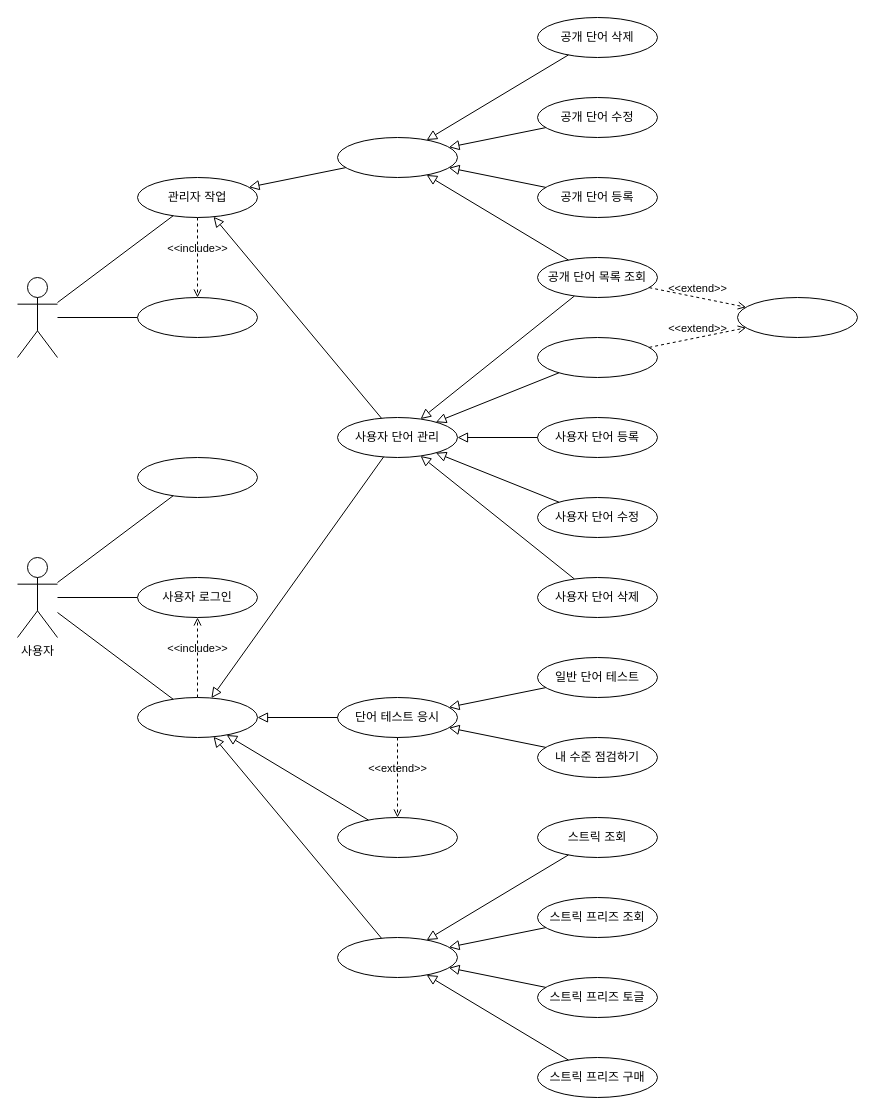
This 875x1115 diagram has some shape labels left out. Here are the shapes that lost their labels. From the top down, the centre of each, then its label:
At point (397, 157): "관리자 단어 관리".
At point (37, 317): "관리자".
At point (197, 317): "관리자 로그인".
At point (797, 317): "조회한 단어를 정렬할 수 있다".
At point (597, 357): "사용자 단어 목록 조회".
At point (197, 477): "사용자 회원가입".
At point (197, 717): "사용자 작업".
At point (397, 837): "단어 테스트 결과 확인".
At point (397, 957): "스트릭 관리".
